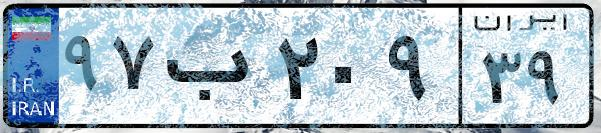0: (330, 28, 385, 110)
2: (270, 28, 330, 110)
3: (475, 38, 525, 113)
7: (110, 28, 158, 98)
9: (385, 28, 445, 110), (57, 26, 110, 100), (525, 38, 570, 115)
ب: (158, 20, 270, 120)
